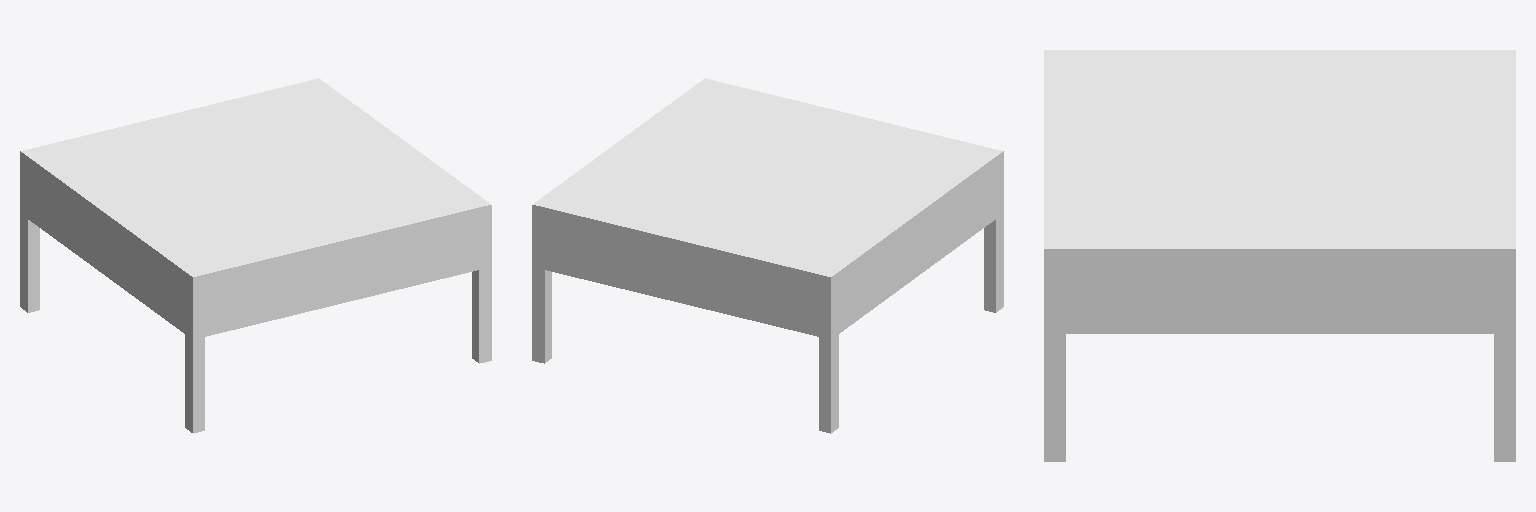
The robot description file, URDF, robot "support":
<?xml version="1.0" ?>
<robot name="support">
  <link name="supportLink">
  <contact>
      <lateral_friction value="1"/>
  </contact>
    <inertial>
      <origin rpy="0 0 0" xyz="0 0 0"/>
       <mass value=".0"/>
       <inertia ixx="0" ixy="0" ixz="0" iyy="0" iyz="0" izz="0"/>
    </inertial>
    <visual>
      <origin rpy="0 0 0" xyz="0 0 0"/>
      <geometry>
				<mesh filename="support.obj" scale="0.8 0.8 8"/>    <!-- scale="0.5 0.8 1"-->
      </geometry>
       <material name="white">
        <color rgba="1 1 1 1"/>
      </material>
    </visual>
    <collision>
      <origin rpy="0 0 0" xyz="0 0 0"/>
      <geometry>
				<mesh filename="support.obj" scale="0.8 0.8 8"/>    <!-- scale="0.5 0.8 1"-->
      </geometry>
    </collision>
  </link>
</robot>

--- Render facts (derived) ---
3 views of the same robot in one strip: view 1: azimuth 30°, elevation 25°; view 2: azimuth 150°, elevation 25°; view 3: azimuth 270°, elevation 25° (orthographic).
Model support with 1 links and 0 joints (none), rooted at supportLink, posed every joint at zero.
Visible links, largest first — view 1: supportLink; view 2: supportLink; view 3: supportLink.
Boxes of the visible links, x1,y1,x2,y2 form: supportLink: [20, 78, 491, 433]; supportLink: [532, 78, 1003, 433]; supportLink: [1044, 50, 1515, 461].
Bounding box of the posed robot: 0.8 × 0.8 × 0.4 m (x, y, z).
1 mesh visuals loaded from 1 distinct referenced files (1 OBJ).